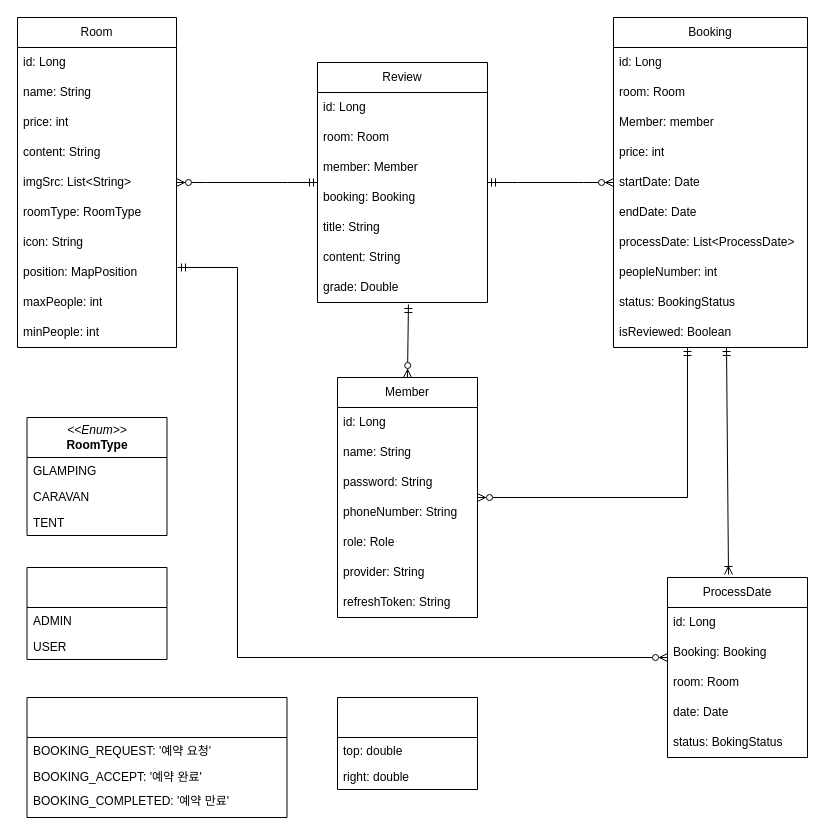
This 825x838 diagram has some shape labels left out. Each missing label, with the box of its shape:
<<Enum>> BookingStatus: (26, 696, 287, 818)
<<Enum>> Role: (26, 566, 167, 660)
<<Value Type>> MapPosition: (336, 696, 478, 790)
